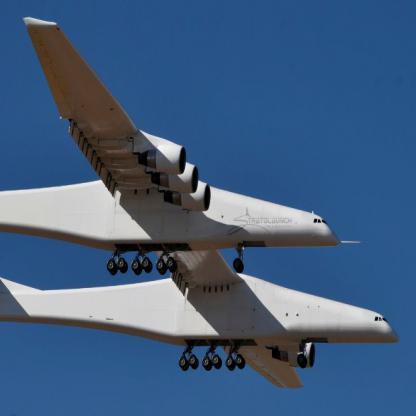CIV_Plane: (0, 13, 402, 389)
